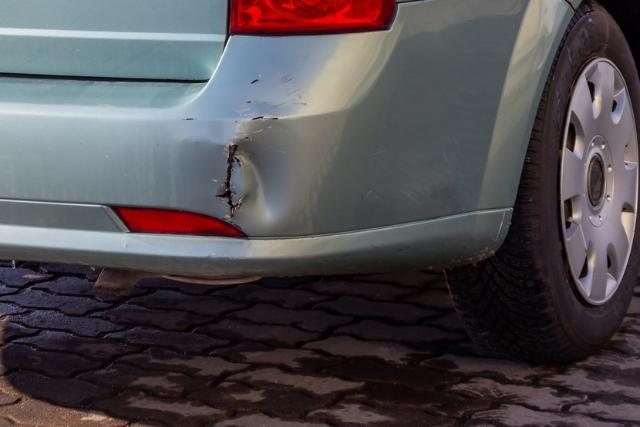Bumper: (177, 68, 343, 242)
